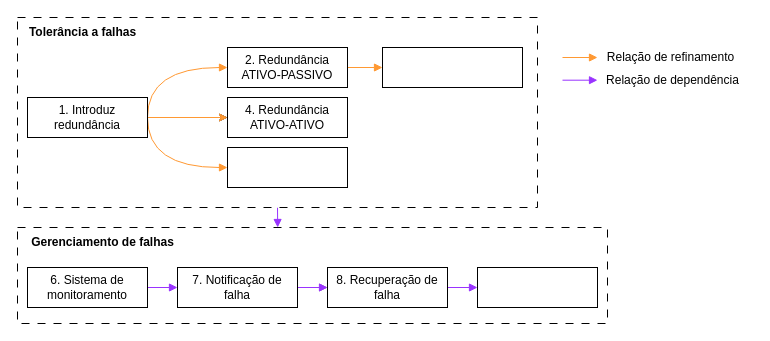
Image size: 770x341. Some labels were removed from this diagram. Here are the shapes that lost their labels. From the top down, the box of each, then its label:
(382, 46, 522, 88): 3. Resolução de conflito ATIVO-PASSIVO
(226, 146, 348, 188): 5. Redundância N+1
(476, 266, 598, 308): 9. Notificação de recuparaçao
